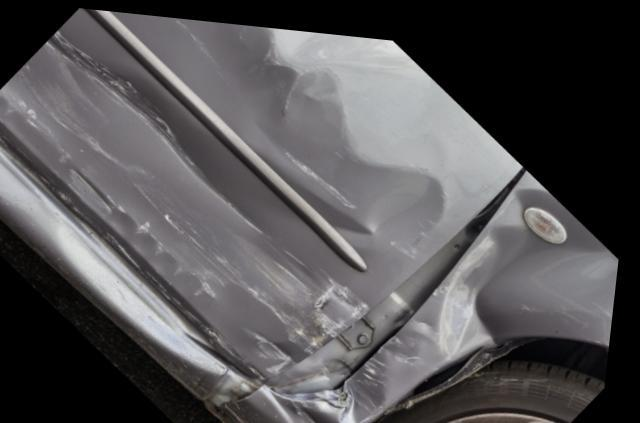dent: (0, 14, 459, 374), (358, 171, 623, 405), (0, 151, 233, 364)
